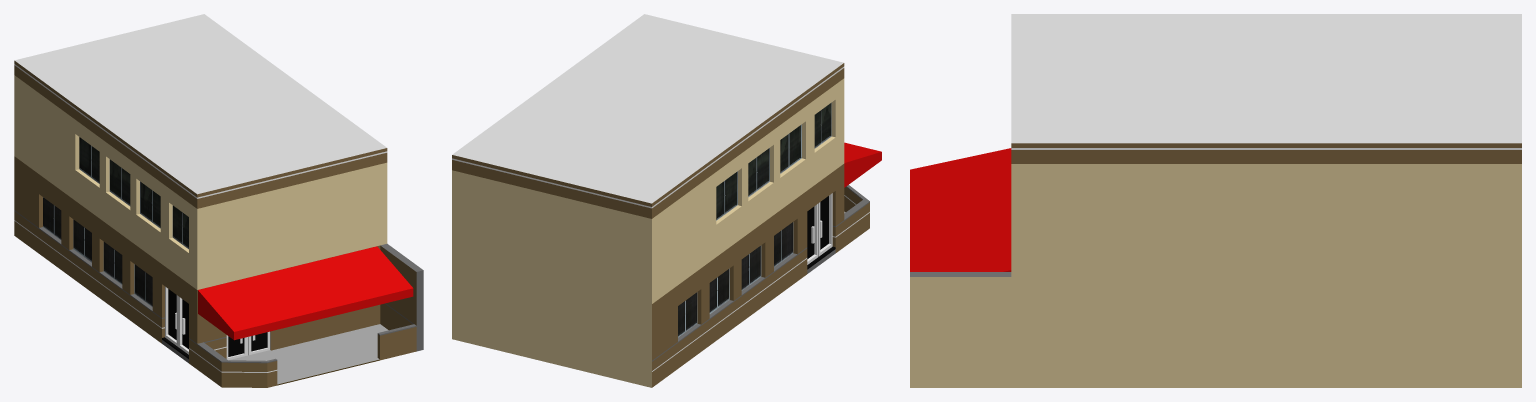
3 renders of one model, left to right at view 1: azimuth 30°, elevation 25°; view 2: azimuth 150°, elevation 25°; view 3: azimuth 270°, elevation 25°, orthographic. The views are drawn at different scales.
Visible parts, largest first — view 1: EB-003; view 2: EB-003; view 3: EB-003.
Part boxes in pixels (x1=…): EB-003: x1=14, y1=14, x2=423, y2=387; EB-003: x1=452, y1=14, x2=881, y2=387; EB-003: x1=910, y1=14, x2=1521, y2=387.
Size of what is drawn, in the model's own units: 10 by 8.81 by 19.98.
